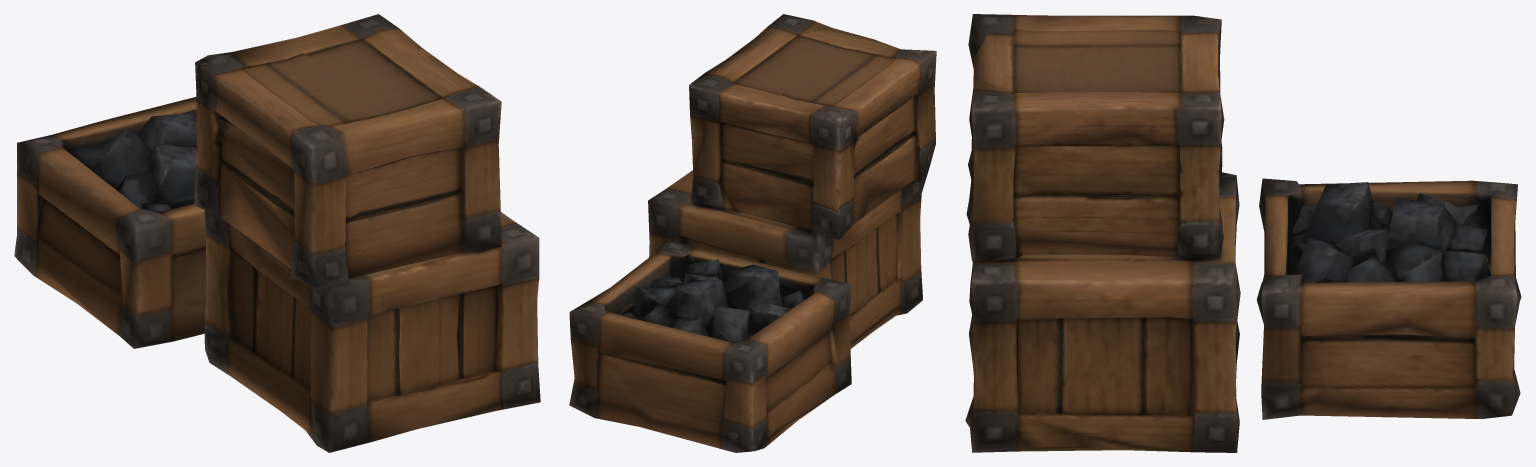
File: textures.glb
3 renders of one model, left to right at view 1: azimuth 30°, elevation 25°; view 2: azimuth 150°, elevation 25°; view 3: azimuth 270°, elevation 25°, orthographic. The views are drawn at different scales.
Visible parts, largest first — view 1: tripo_node_a1ed8067-279d-4df6-9563-50b43d16261e; view 2: tripo_node_a1ed8067-279d-4df6-9563-50b43d16261e; view 3: tripo_node_a1ed8067-279d-4df6-9563-50b43d16261e.
Boxes of the visible parts, x1,y1,x2,y2 form: tripo_node_a1ed8067-279d-4df6-9563-50b43d16261e: (14, 14, 540, 452); tripo_node_a1ed8067-279d-4df6-9563-50b43d16261e: (569, 14, 936, 452); tripo_node_a1ed8067-279d-4df6-9563-50b43d16261e: (965, 14, 1521, 452).
Bounding box in the file's own units: 0.5794 × 0.6578 × 1.
1 material, 1 textured.
